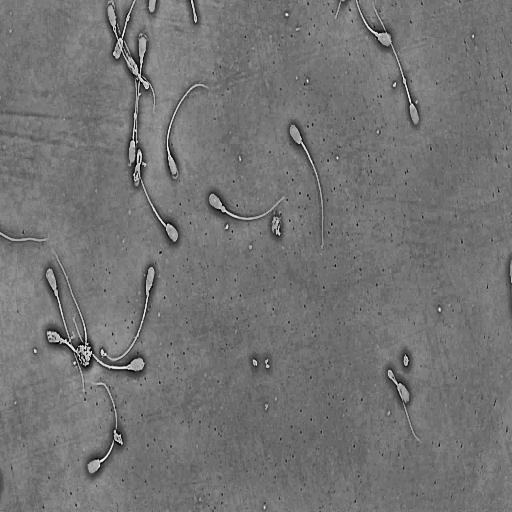coiled-tail: (137, 151, 142, 165)
dirt-particles: (75, 340, 94, 369), (112, 427, 125, 450), (402, 352, 410, 370), (45, 329, 53, 340)
distal-droplet: (402, 77, 407, 85), (126, 14, 130, 22)
folded-tail: (388, 369, 420, 442), (118, 32, 150, 92)
loose-tail: (0, 229, 51, 244)
normal: (373, 0, 422, 130), (106, 2, 156, 115), (286, 120, 328, 254), (103, 265, 156, 362), (45, 266, 85, 393), (135, 146, 180, 244), (165, 82, 209, 180), (71, 316, 145, 373), (202, 190, 290, 227), (87, 381, 118, 476), (386, 366, 423, 444), (121, 44, 138, 165), (354, 0, 393, 48), (135, 34, 148, 154), (112, 0, 137, 61), (131, 147, 143, 191)
proximal-droplet: (220, 205, 226, 213), (54, 287, 58, 297), (126, 364, 131, 370), (113, 25, 116, 33), (140, 57, 143, 64), (375, 32, 378, 38)
